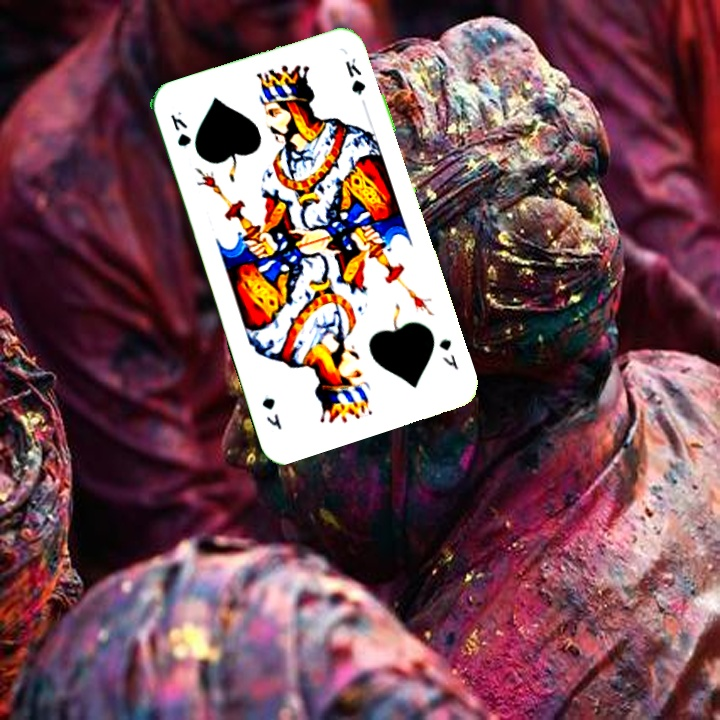GK: (166, 110, 194, 150), (434, 335, 461, 373)
